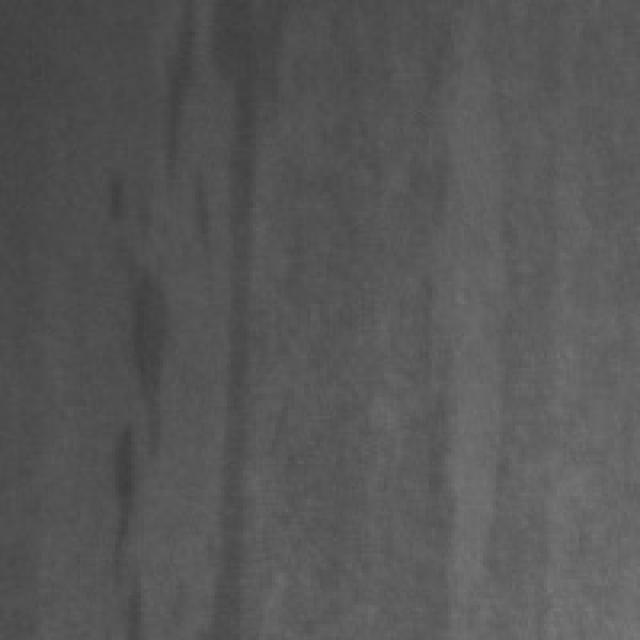inclusion: (175, 0, 262, 630), (374, 32, 461, 634), (83, 170, 170, 582)
